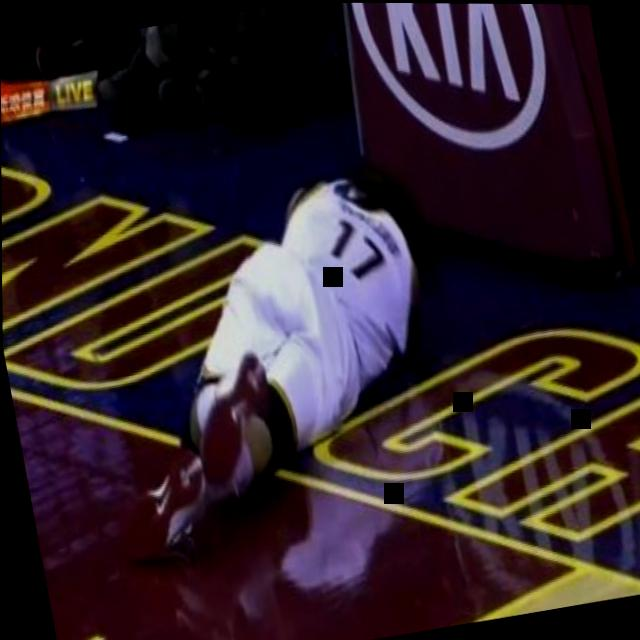Fall-Detected: (64, 114, 470, 596)
